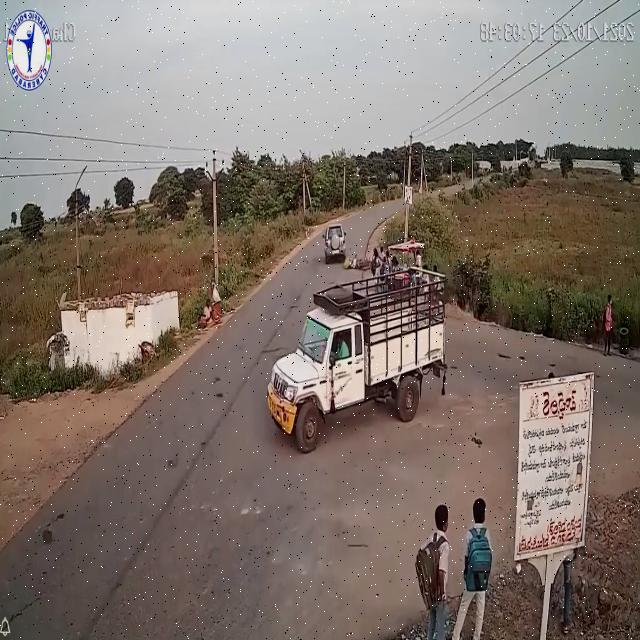accident: (321, 222, 374, 279)
